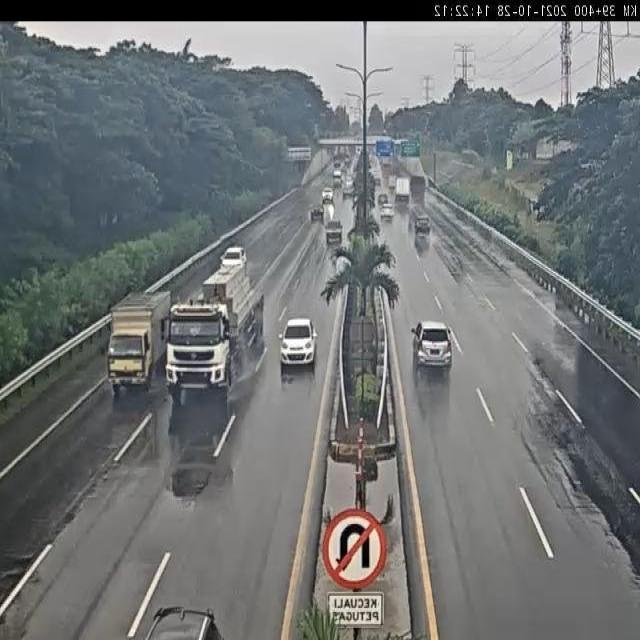Car: (147, 598, 240, 640), (412, 310, 452, 372), (283, 317, 323, 371)
Truck: (156, 262, 272, 430), (99, 286, 169, 402)
